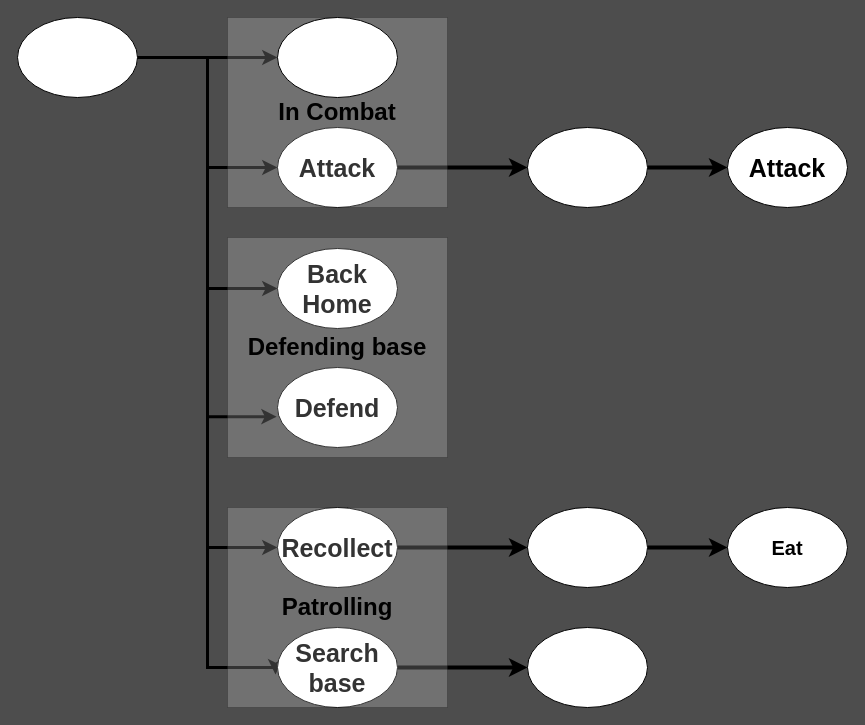
Image size: 865x725. Some labels were removed from this diagram. Here are the shapes that lost their labels. From the top down, the centre of each, then its label:
At point 77,57: "ANT".
At point 337,57: "Flee".
At point 587,167: "Go to Enemy".
At point 587,547: "Go to Next point".
At point 587,667: "Go to base".
